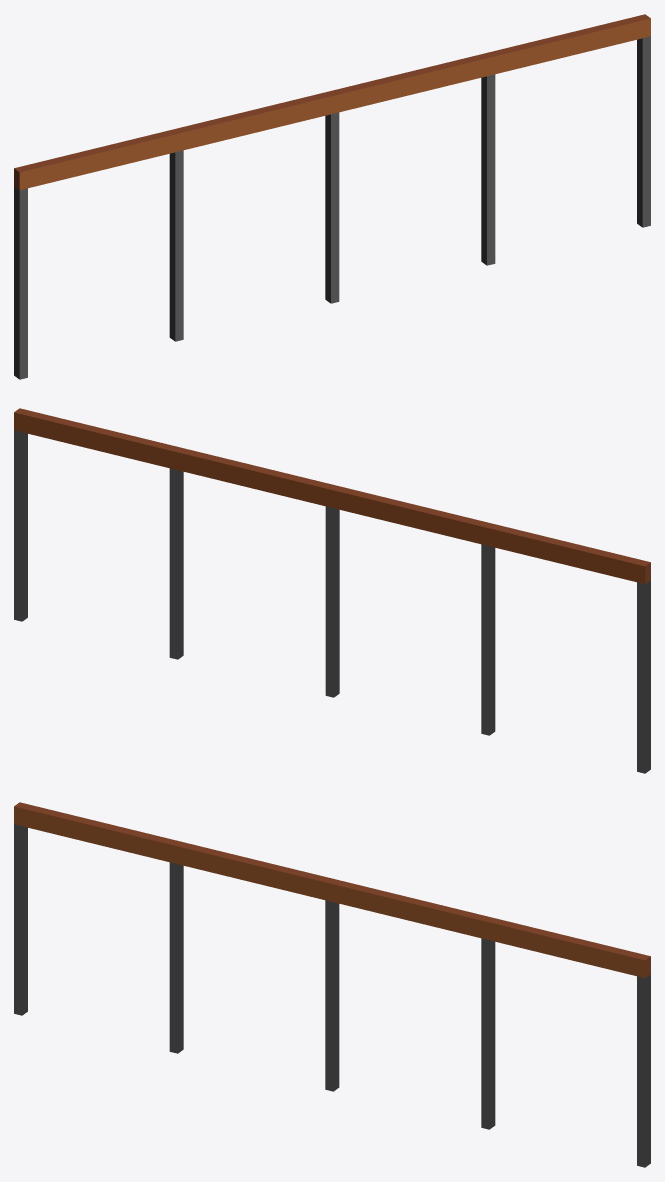
The model's file is door border.fbx.
3 renders of one model, top to bottom at view 1: azimuth 30°, elevation 25°; view 2: azimuth 150°, elevation 25°; view 3: azimuth 330°, elevation 25°, orthographic.
Parts seen in each view (by area): view 1: Cube.002; view 2: Cube.002; view 3: Cube.002.
Boxes of the visible parts, <box> form: Cube.002: <box>14,14,650,379</box>; Cube.002: <box>14,408,650,773</box>; Cube.002: <box>14,802,650,1167</box>.
Size of the model in its own units: 6490 by 2037 by 102.
1 material, 1 textured.
